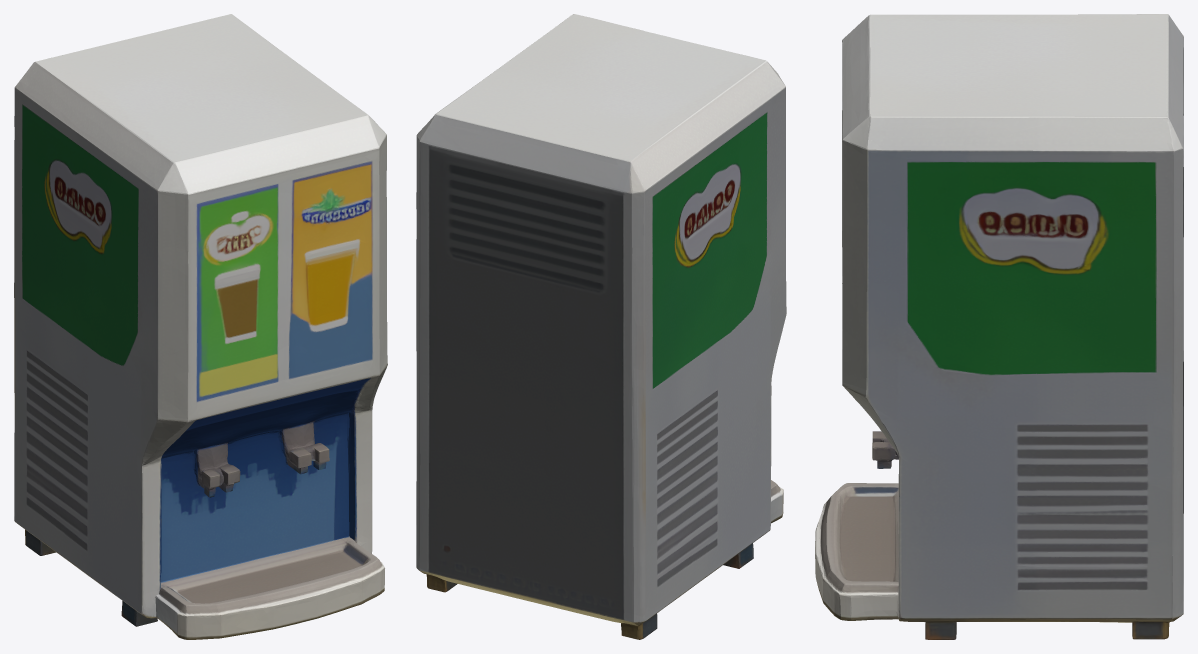
The model's file is Milo Machine.glb.
3 renders of one model, left to right at view 1: azimuth 30°, elevation 25°; view 2: azimuth 150°, elevation 25°; view 3: azimuth 270°, elevation 25°, orthographic. The views are drawn at different scales.
Visible parts, largest first — view 1: world; view 2: world; view 3: world.
Part boxes in pixels (<box>): world: <box>14,14,387,639</box>; world: <box>416,14,786,639</box>; world: <box>815,14,1183,639</box>.
Bounding box in the file's own units: 0.5046 × 1 × 0.647.
1 material, 1 textured.
